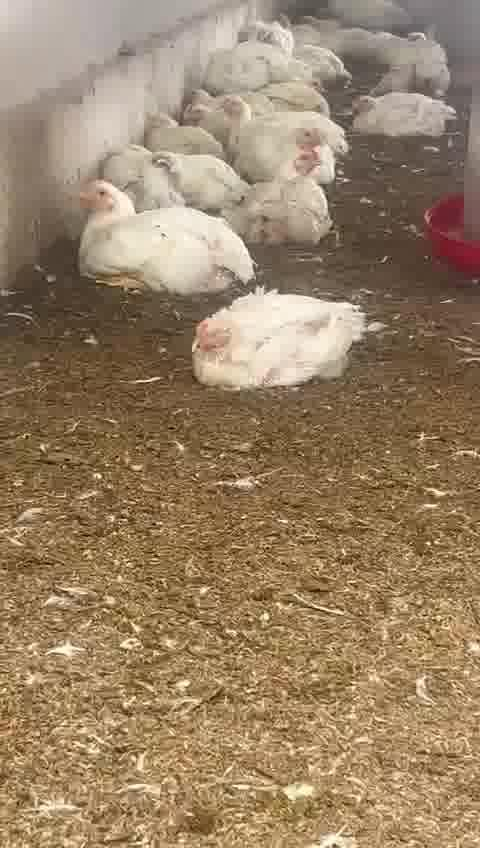AbNormal: (194, 283, 375, 400), (92, 144, 231, 201), (137, 100, 215, 161), (161, 52, 225, 119), (198, 31, 273, 83)
Normal: (62, 181, 240, 306), (212, 89, 344, 161), (333, 75, 459, 148), (245, 148, 336, 244)
